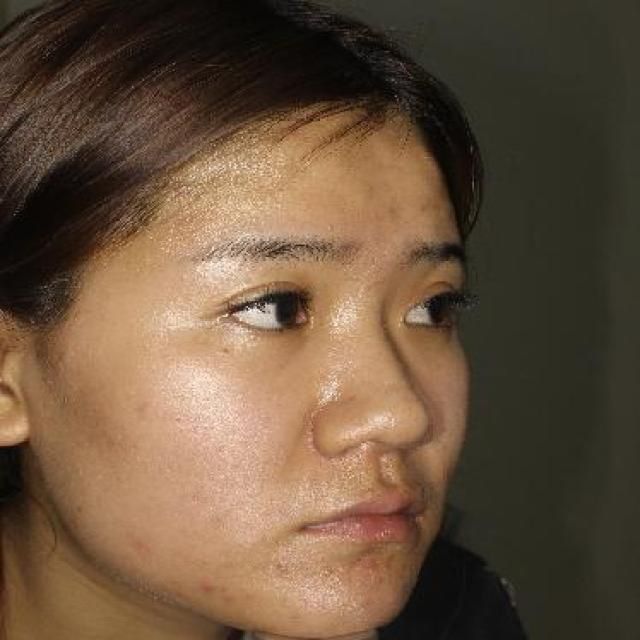blackheads: (176, 270, 192, 284), (215, 346, 232, 357)
papules: (195, 578, 221, 592)
whiteheads: (270, 557, 296, 575), (363, 486, 376, 500)
